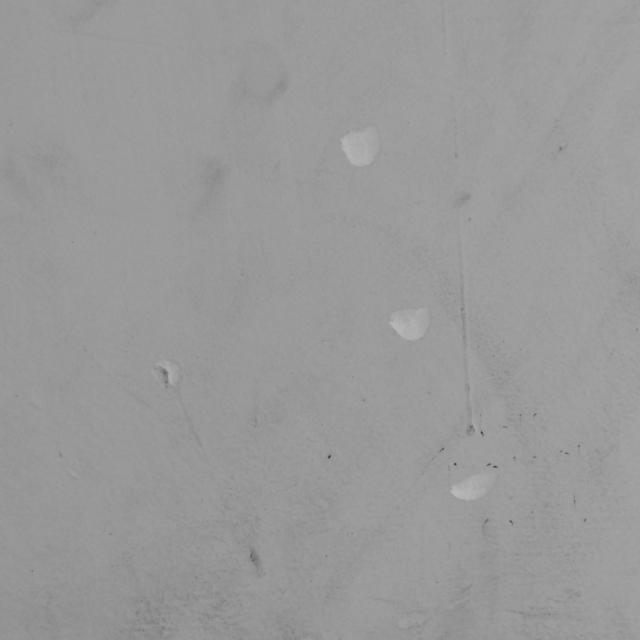rough and patchy surface: (437, 0, 504, 445), (314, 99, 404, 242), (124, 341, 242, 427), (362, 279, 448, 352), (416, 452, 514, 508), (62, 454, 104, 496)
stain marks: (112, 398, 384, 640), (176, 53, 306, 330), (452, 506, 640, 640), (0, 140, 83, 284)
